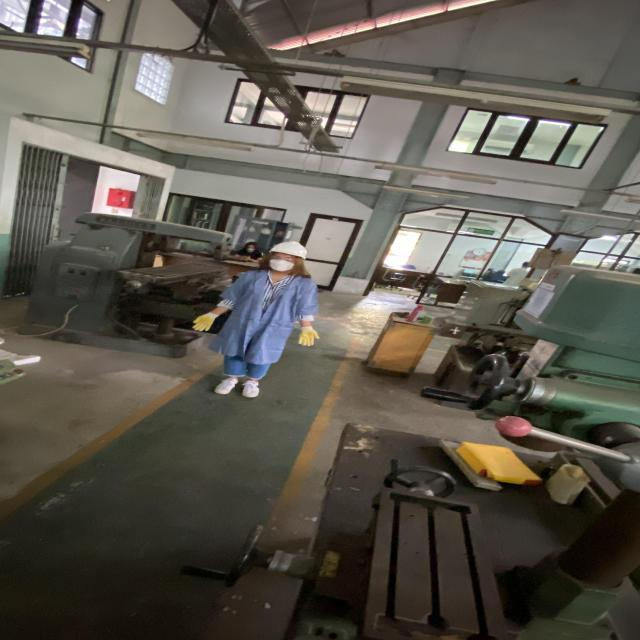glasses: (266, 256, 298, 264)
